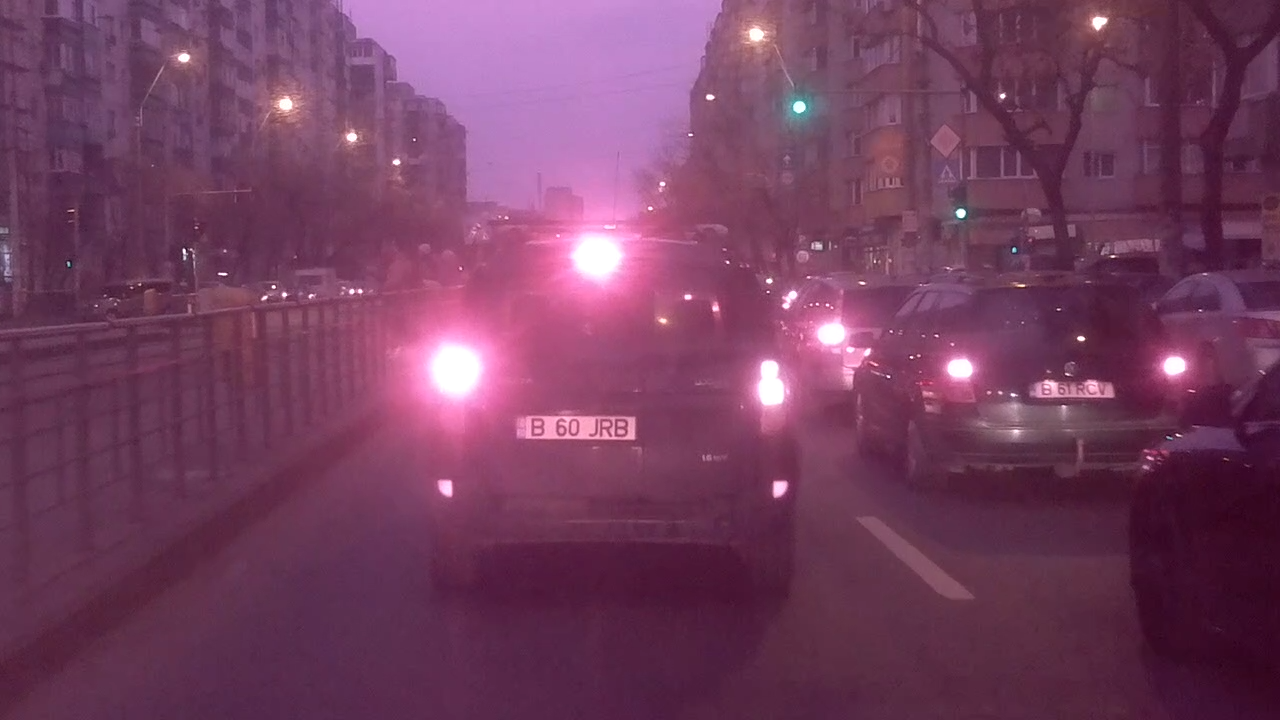license-plate: (508, 410, 641, 444), (1028, 377, 1118, 400)
